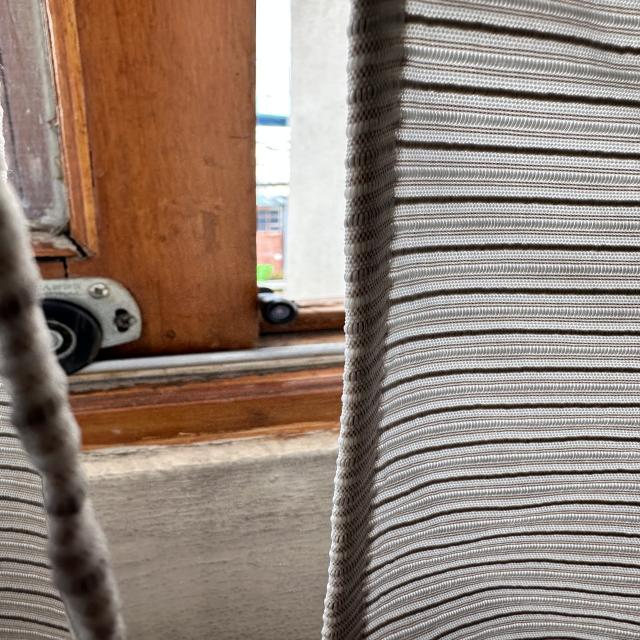hidden camera: (266, 301, 297, 322)
